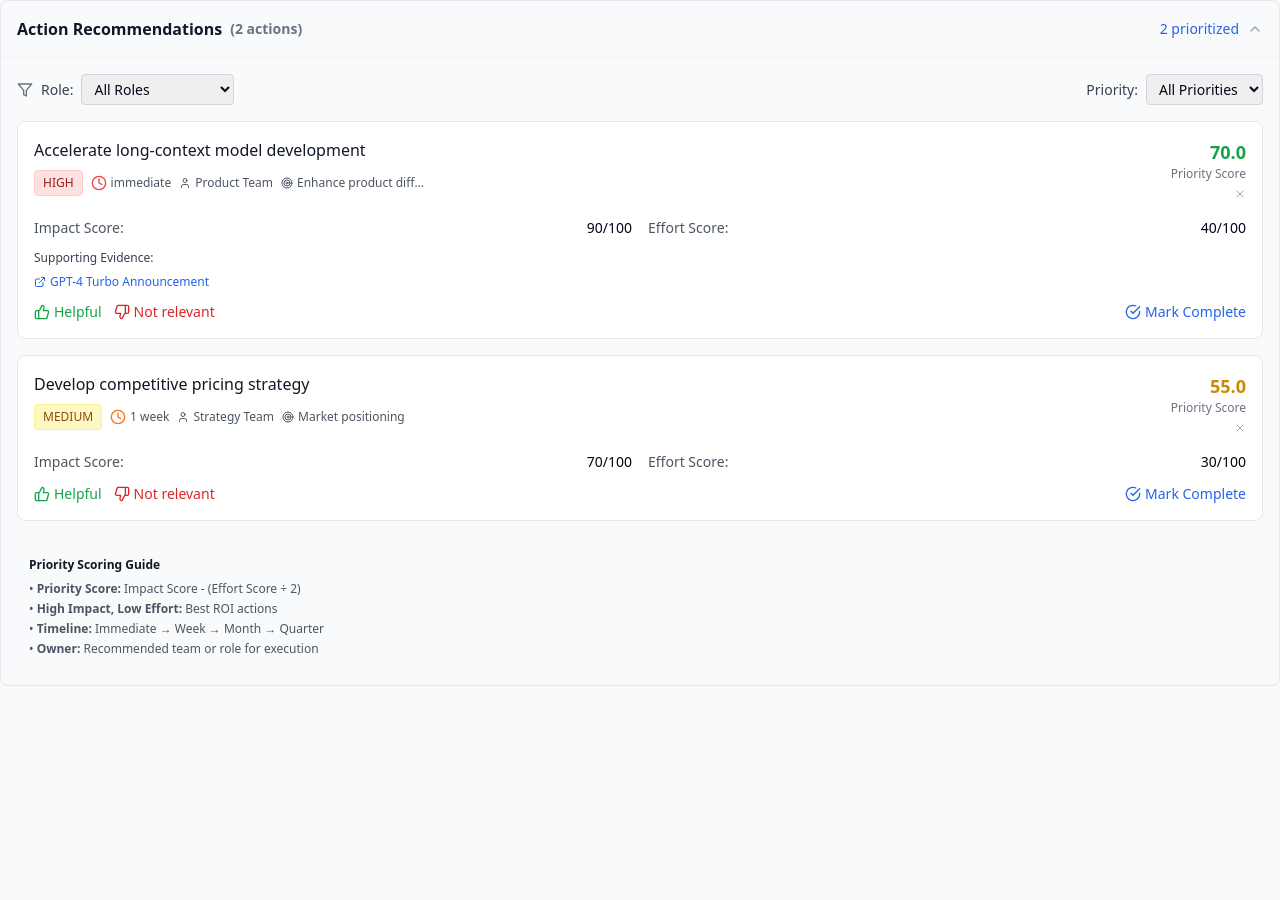
ActionRecommendations Component › restores dismissed actions
# Dismiss an action
Click the button titled "Dismiss action" below "70.0": click(1240, 194) [1234, 188, 1246, 200]
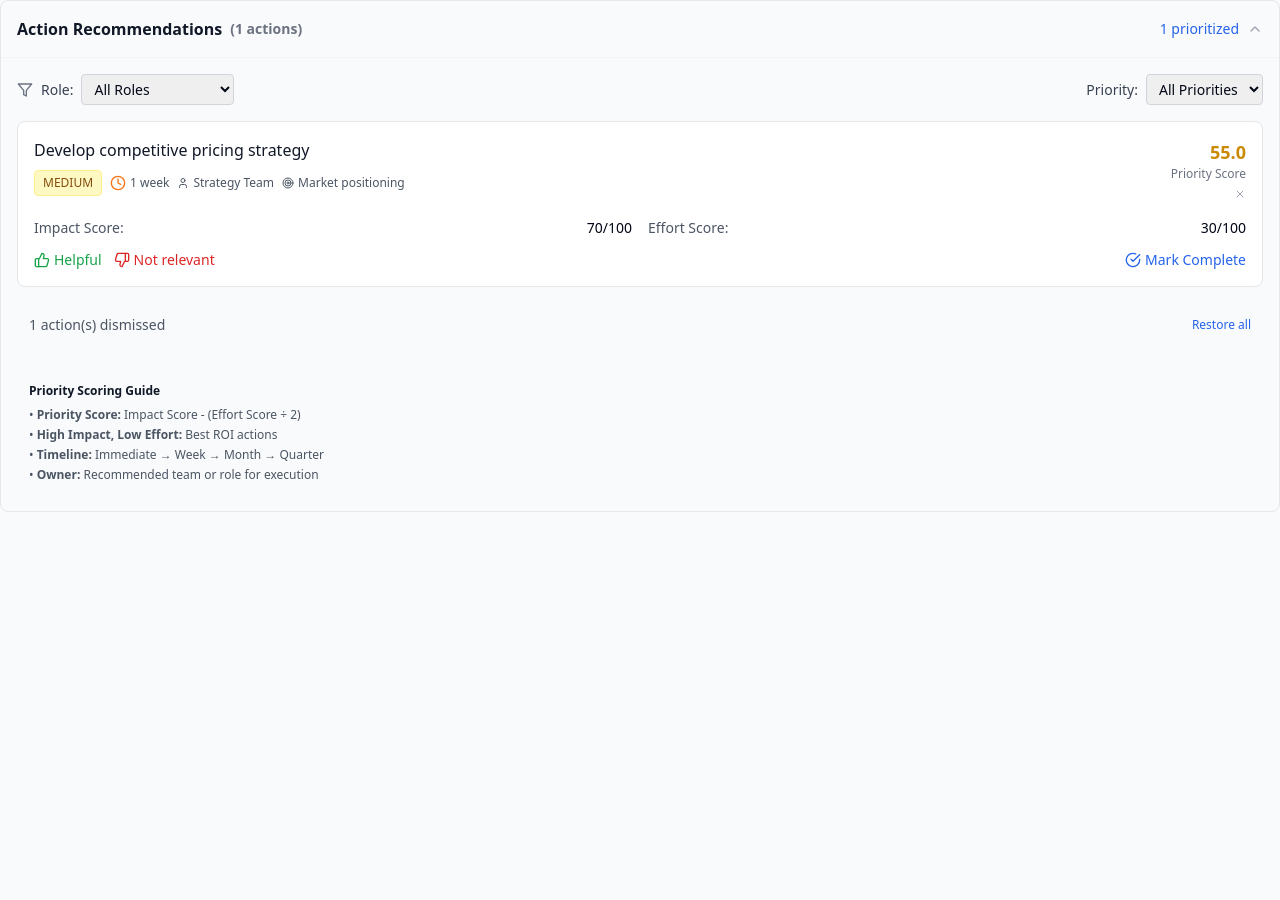
# Restore all actions
Click the button "Restore all": click(1221, 325) [1192, 317, 1251, 333]
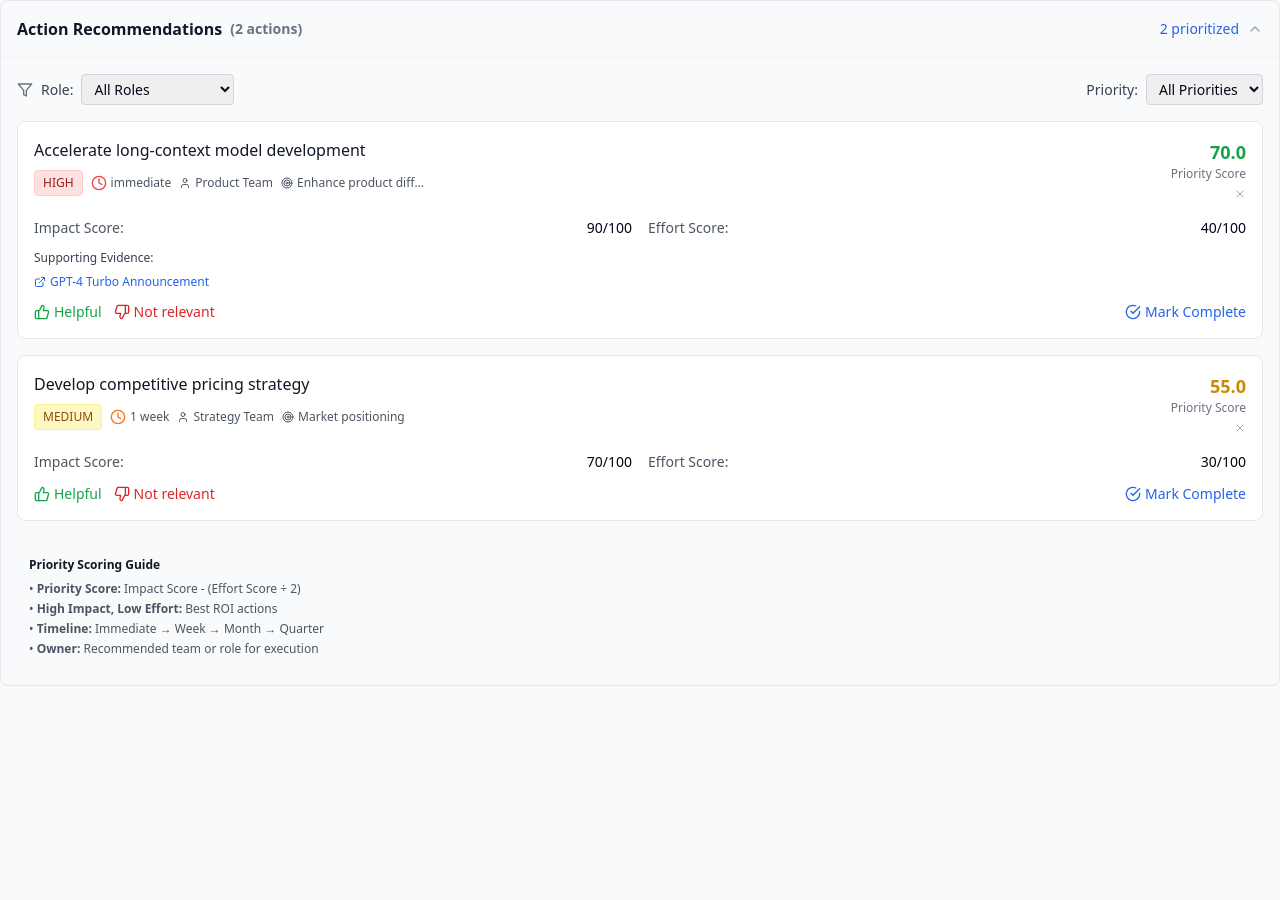
Result: the heading "Accelerate long-context model development" is shown at [34, 139, 366, 161]
